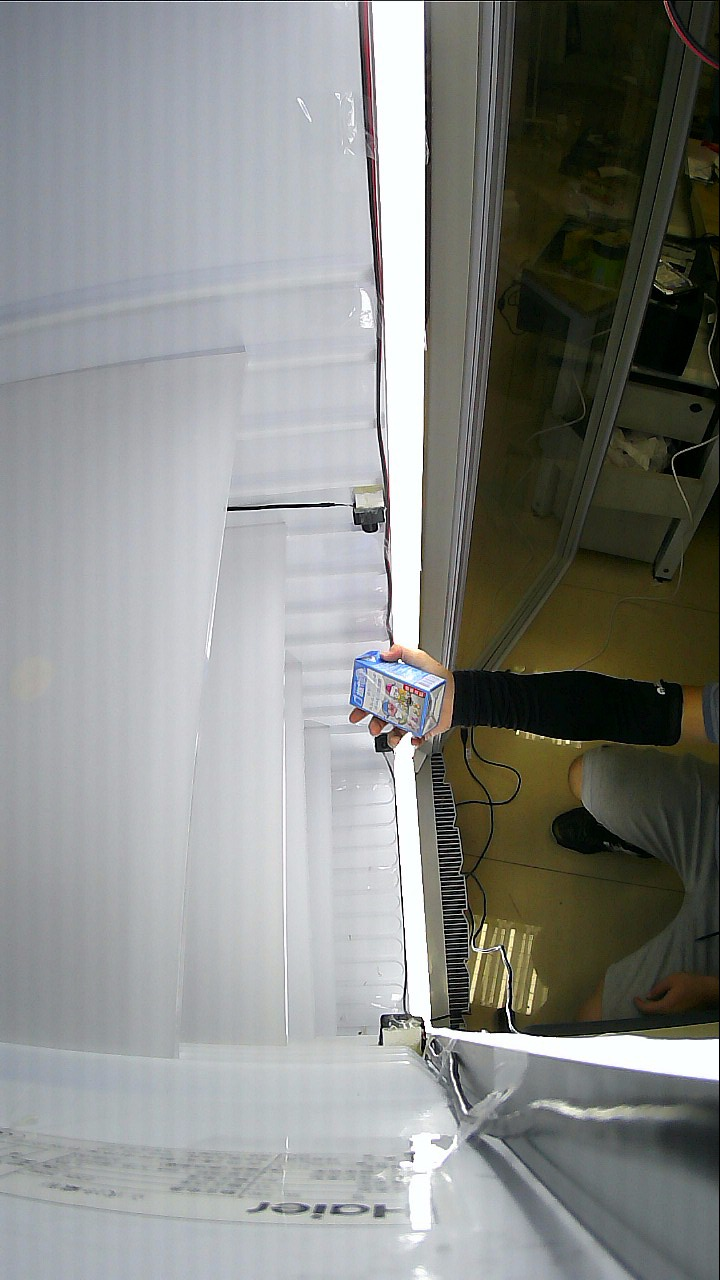VitaSoyOriginal: (354, 647, 530, 748)
